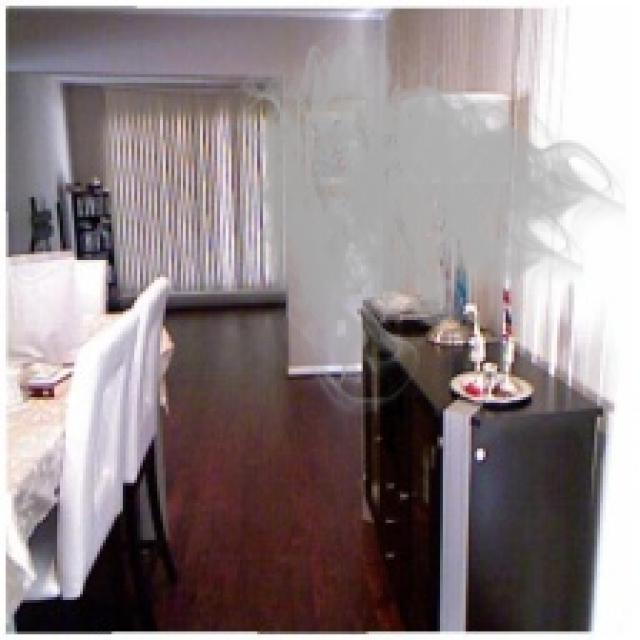Smoke: (214, 8, 626, 420)
